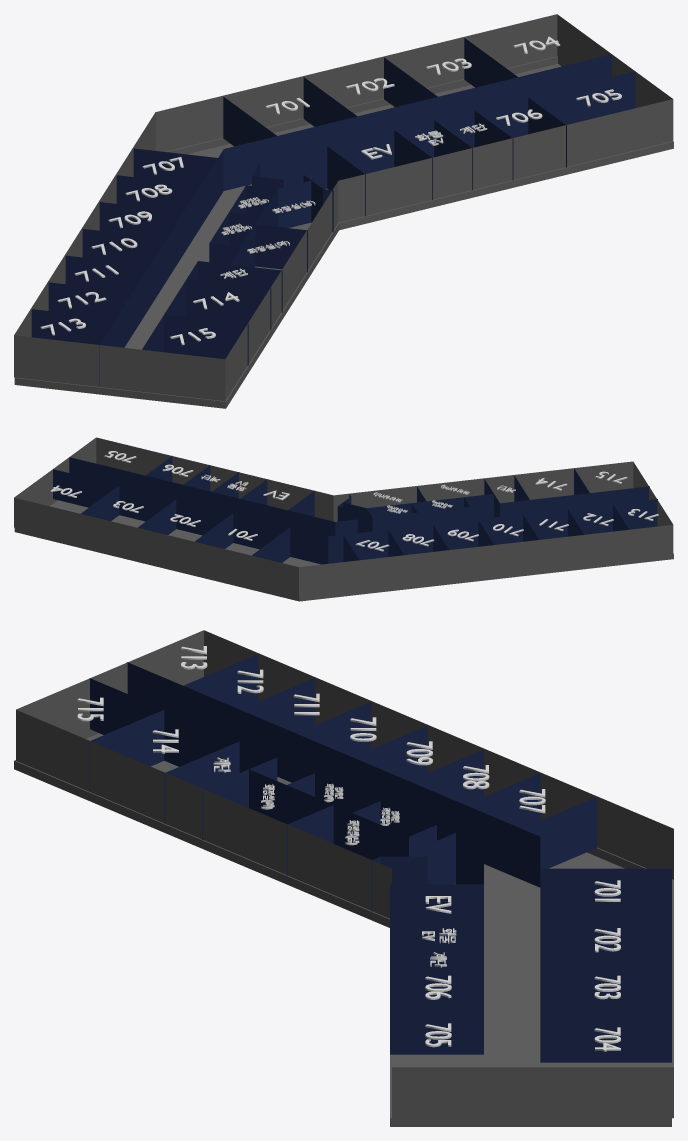
Rendered from 7floor.glb.
The picture shows the model from 3 angles, top to bottom: view 1: azimuth 30°, elevation 25°; view 2: azimuth 150°, elevation 25°; view 3: azimuth 270°, elevation 25°; orthographic projection. The views are drawn at different scales.
Parts seen in each view (by area): view 1: InnerWalls_4F, FloorAndWalls_4F; view 2: FloorAndWalls_4F, InnerWalls_4F; view 3: InnerWalls_4F, FloorAndWalls_4F.
Boxes of the visible parts, <box> form: InnerWalls_4F: <box>31,38,635,386</box>; FloorAndWalls_4F: <box>14,14,673,408</box>; FloorAndWalls_4F: <box>14,437,673,601</box>; InnerWalls_4F: <box>53,456,657,564</box>; InnerWalls_4F: <box>89,654,671,1062</box>; FloorAndWalls_4F: <box>14,630,673,1126</box>.
Bounding box in the file's own units: 550 × 35.5 × 351.
